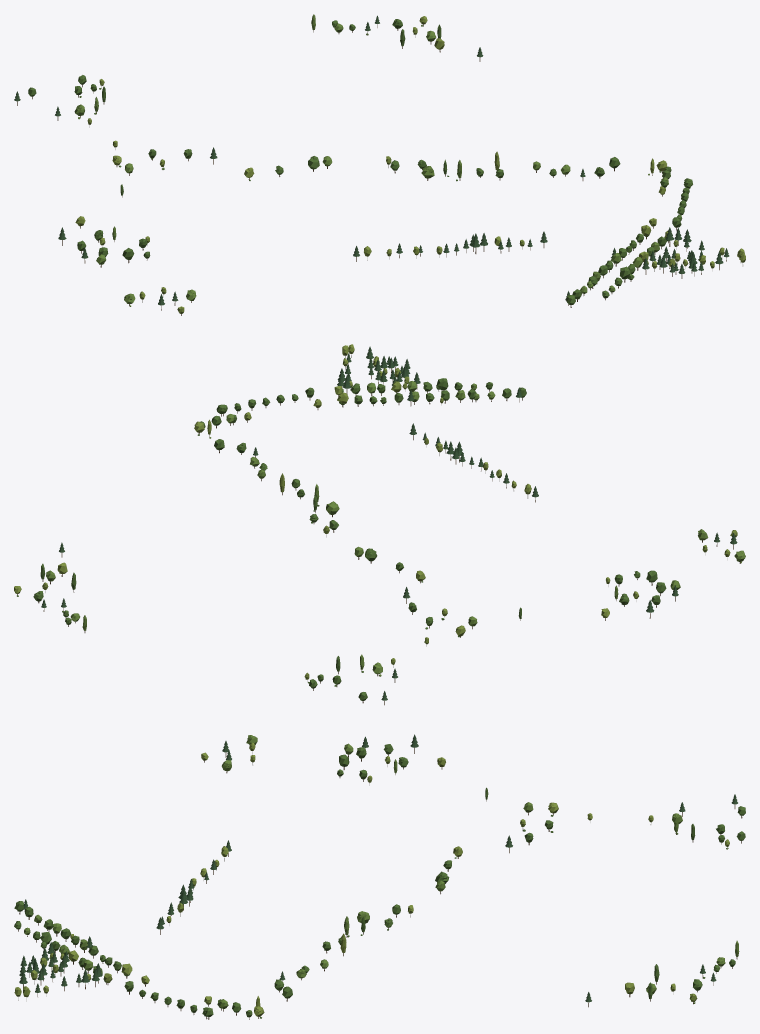
The model's file is Natura_1_1.fbx.
3 renders of one model, top to bottom at view 1: azimuth 30°, elevation 25°; view 2: azimuth 150°, elevation 25°; view 3: azimuth 270°, elevation 25°, orthographic. The views are drawn at different scales.
Size of the model in its own units: 451 by 17.55 by 504.
